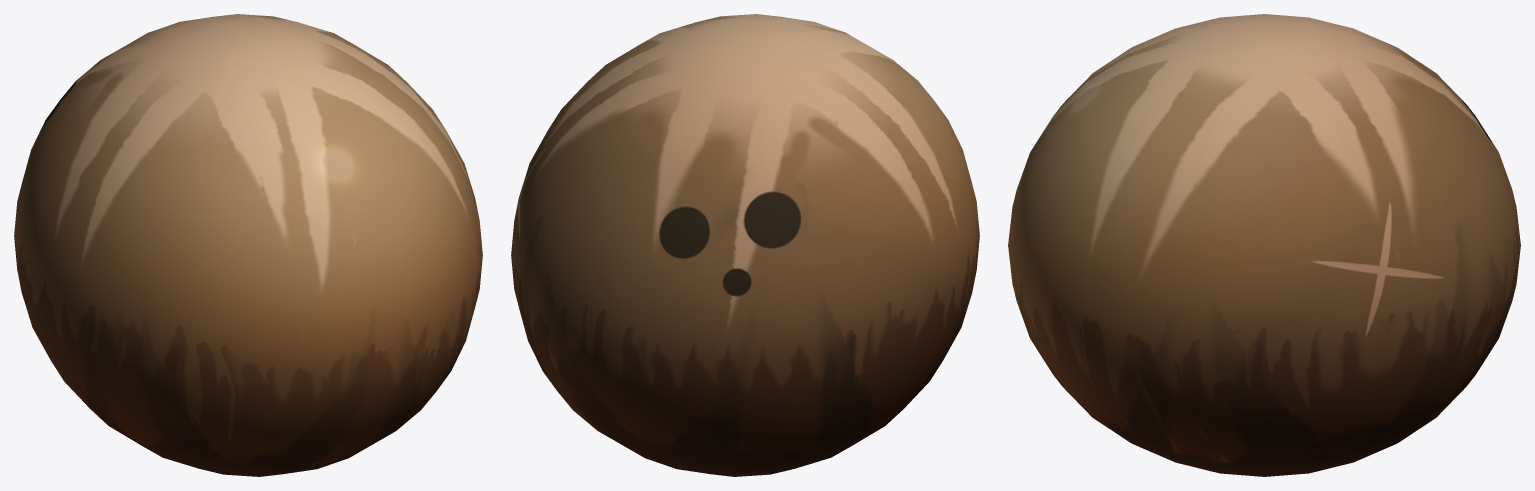
Rendered from SM_Char_Coconut.fbx.
The picture shows the model from 3 angles, left to right: view 1: azimuth 30°, elevation 25°; view 2: azimuth 150°, elevation 25°; view 3: azimuth 270°, elevation 25°; orthographic projection.
Parts seen in each view (by area): view 1: Coconut; view 2: Coconut; view 3: Coconut.
Boxes of the visible parts, x1,y1,x2,y2 form: Coconut: (14, 14, 482, 476); Coconut: (511, 14, 979, 476); Coconut: (1008, 14, 1520, 476).
Bounding box in the file's own units: 574 × 574 × 633.
1 material, 1 textured.
